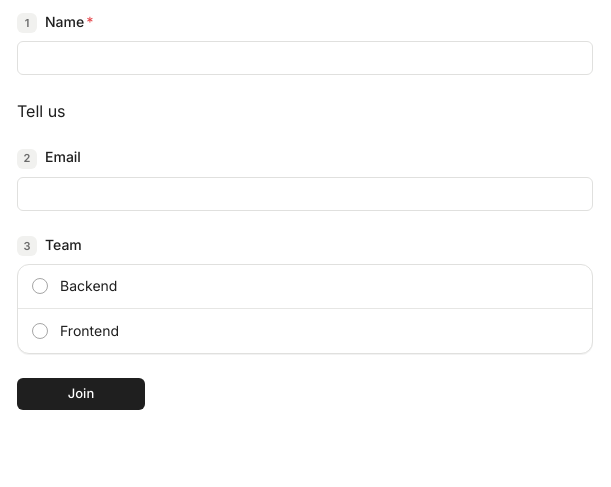
Test: FormFill › shows the server's reason when the answer is refused
The width and height of the screenshot is (611, 487).
Type "Lan" into the field labelled "Name*". click: (305, 58)
box: [17, 41, 593, 75]
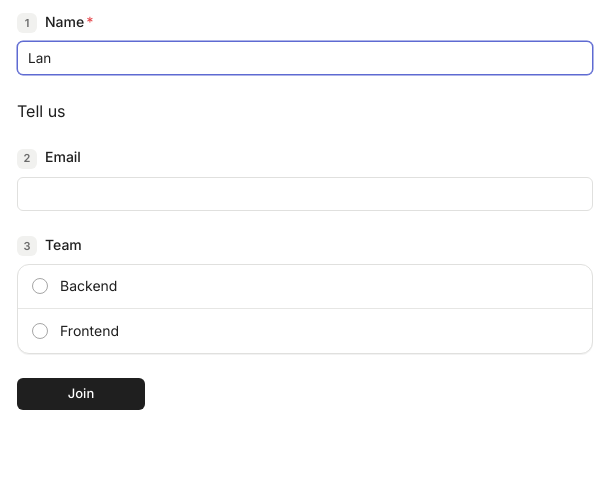
Click the button "Join". click: click(81, 394)
box: [17, 378, 145, 410]
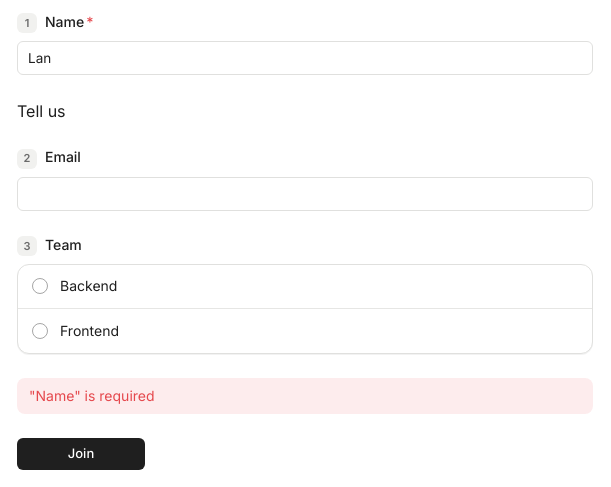
Expected: the message reads "\"Name\" is required", [29, 387, 154, 404]
